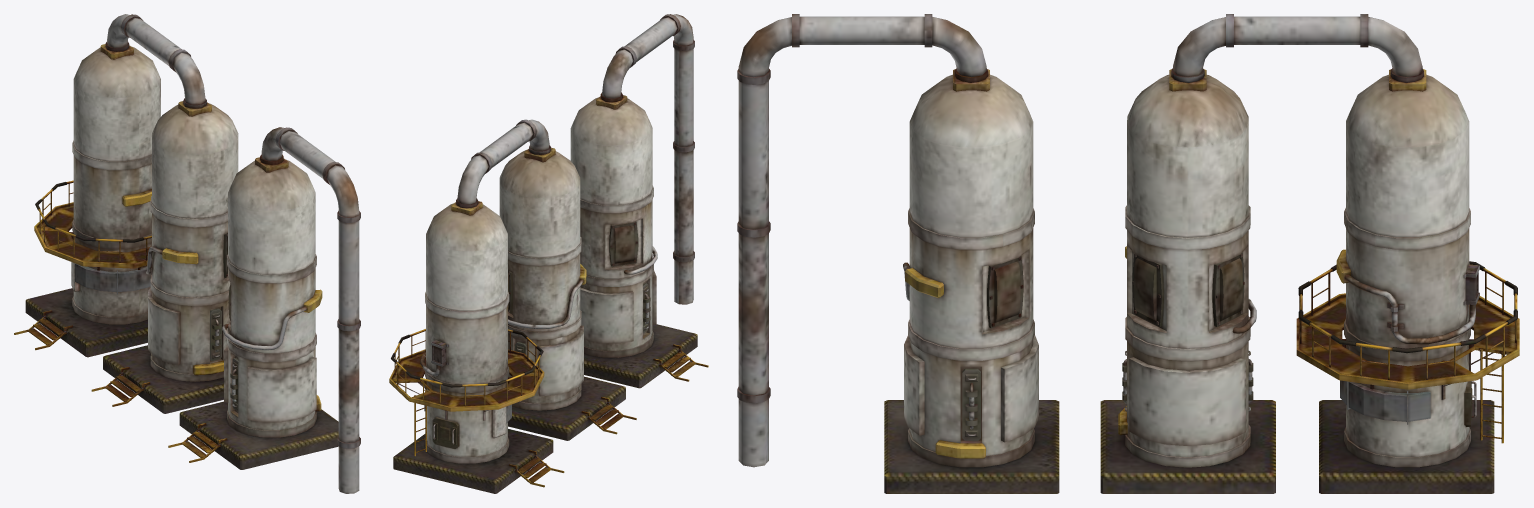
Rendered from tank_old.glb.
The picture shows the model from 3 angles, left to right: view 1: azimuth 30°, elevation 25°; view 2: azimuth 150°, elevation 25°; view 3: azimuth 270°, elevation 25°; orthographic projection. The views are drawn at different scales.
Visible parts, largest first — view 1: tank_old; view 2: tank_old; view 3: tank_old.
Part boxes in pixels (<box>): tank_old: <box>14,14,360,493</box>; tank_old: <box>389,14,708,493</box>; tank_old: <box>737,14,1519,493</box>.
Size of the model in its own units: 0.8235 by 1.51 by 2.4.
1 material, 1 textured.
